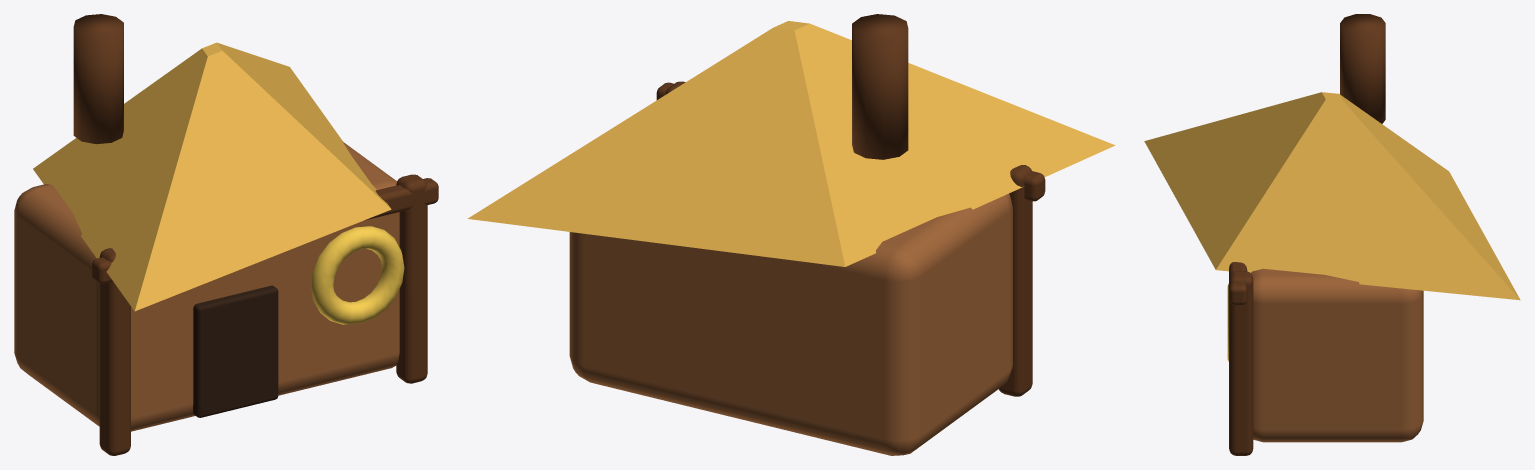
The model's file is workshop.glb.
3 renders of one model, left to right at view 1: azimuth 30°, elevation 25°; view 2: azimuth 150°, elevation 25°; view 3: azimuth 270°, elevation 25°, orthographic. The views are drawn at different scales.
Visible parts, largest first — view 1: Workshop; view 2: Workshop; view 3: Workshop.
Part boxes in pixels (box(x1,y1,x2,y2)): Workshop: box(14, 14, 438, 455); Workshop: box(467, 14, 1115, 455); Workshop: box(1144, 14, 1520, 455).
Size of the model in its own units: 2.47 by 2.35 by 2.47.
